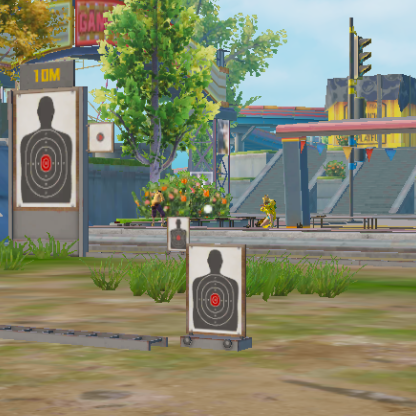ren: (148, 186, 167, 226), (260, 192, 278, 229)
tou: (261, 195, 271, 203), (156, 189, 164, 198)
